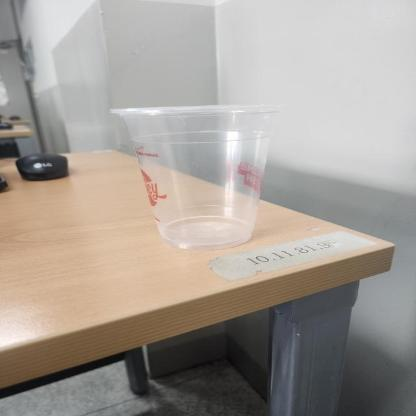Plastic Cup: (110, 104, 292, 250)
